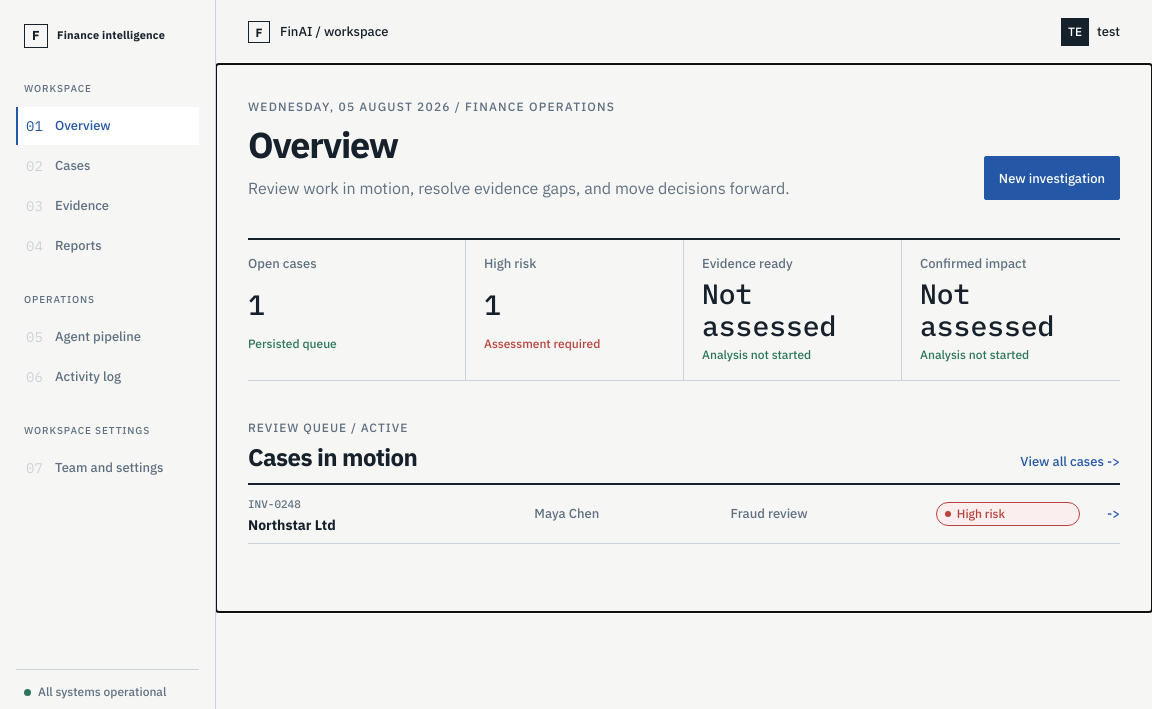
Test: App › navigates from overview to a case and preserves case step order
The width and height of the screenshot is (1152, 709).
Click the link "INV-0248 Northstar Ltd Maya Chen Fraud review High risk ->" at (274, 504), box left=248, top=485, right=1120, bottom=543
(page scrolled)
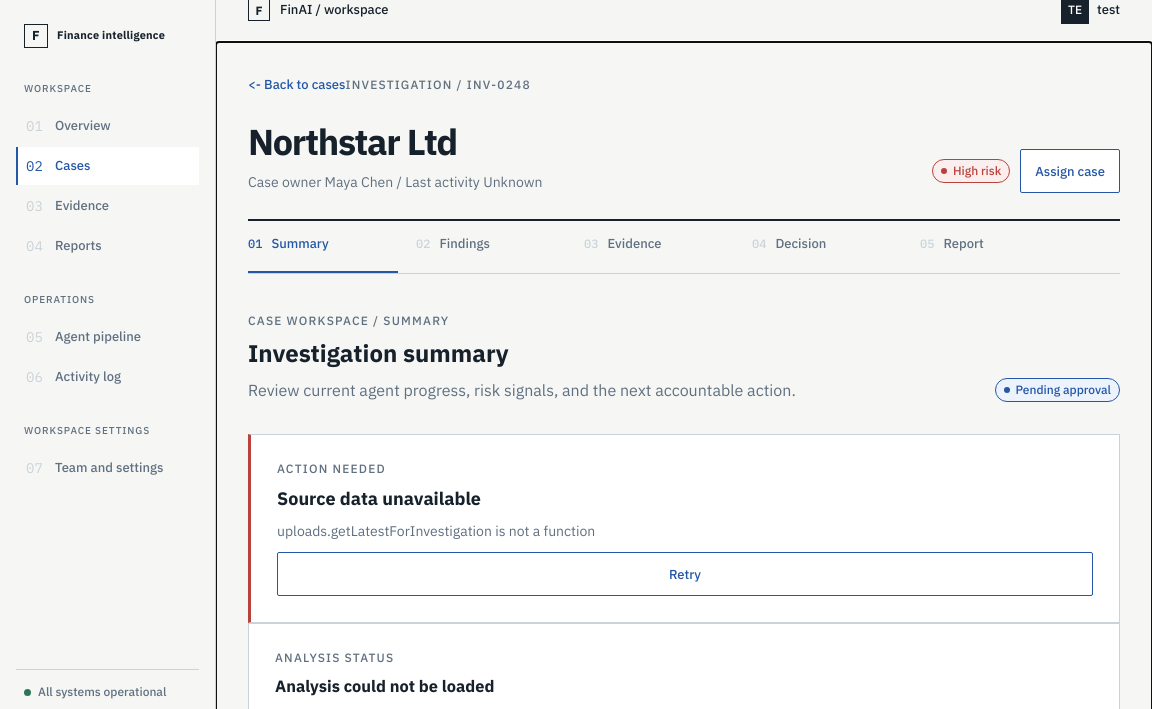
Check: the link "01 Summary" is shown, box left=248, top=221, right=398, bottom=273
Check: the link "02 Findings" is shown, box left=416, top=235, right=490, bottom=252
Check: the link "03 Evidence" is shown, box left=584, top=235, right=661, bottom=252
